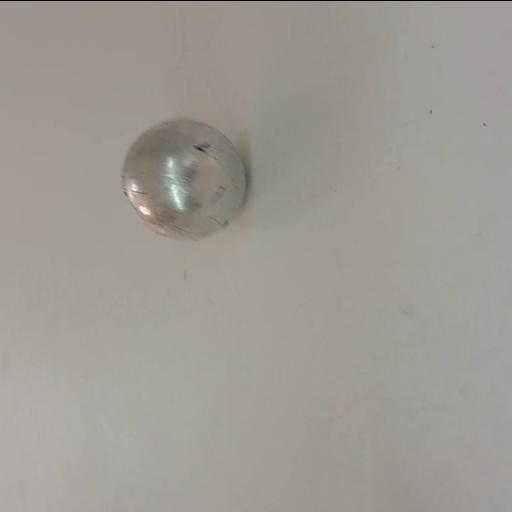alive: (121, 115, 247, 243)
